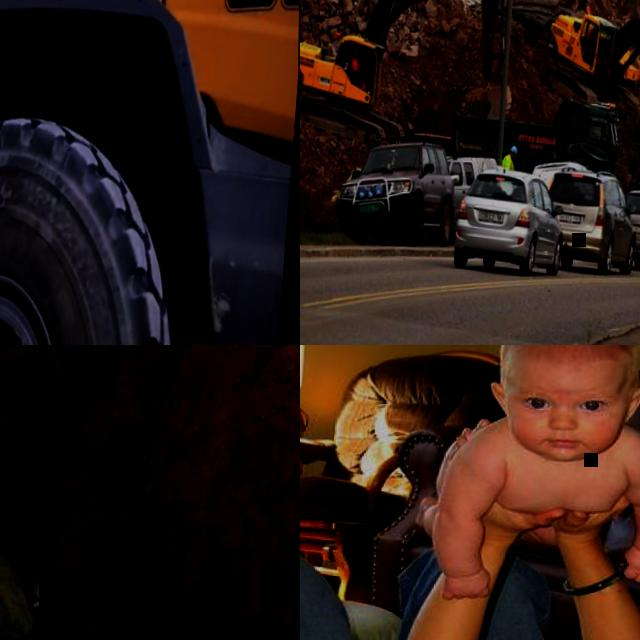Hardhat: (510, 147, 518, 156), (357, 52, 362, 57), (592, 29, 596, 35)
NO-Hardhat: (499, 345, 640, 376)
NO-Mask: (514, 426, 613, 467), (511, 156, 515, 161)
NO-Safety Vest: (0, 345, 85, 553), (475, 429, 640, 526)
Person: (0, 345, 210, 640), (424, 345, 640, 616), (300, 474, 640, 640), (350, 50, 369, 89), (501, 146, 518, 170), (585, 28, 596, 47)
Safety Vest: (502, 155, 516, 171), (585, 31, 594, 46), (352, 58, 362, 71)
vehicle: (0, 0, 300, 345), (300, 0, 523, 154), (525, 9, 640, 156), (449, 91, 622, 180), (335, 135, 458, 249), (452, 166, 569, 279), (542, 166, 640, 277), (440, 154, 498, 241), (531, 160, 590, 191), (619, 188, 640, 275)
